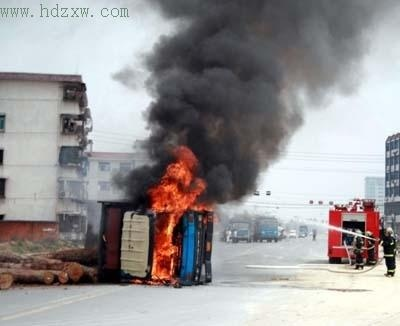fire: (145, 144, 212, 282)
